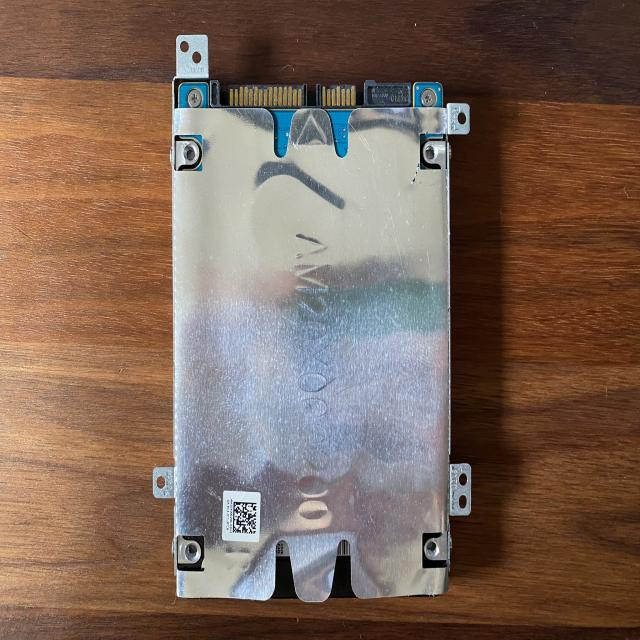PhillipsScrewHead: (420, 88, 437, 109), (186, 87, 202, 109)
